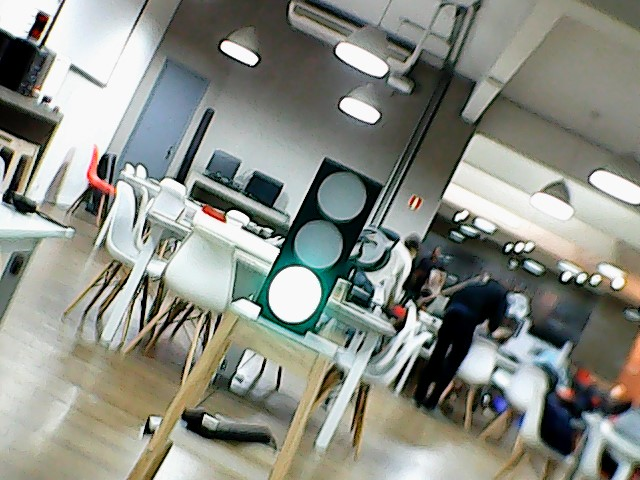verde: (251, 155, 389, 340)
